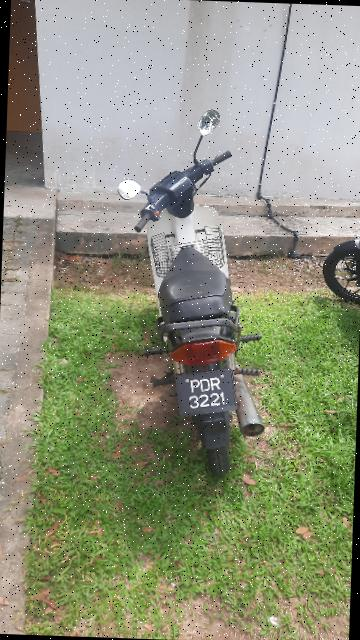License_Plate: (173, 371, 242, 419)
motorcycle: (83, 95, 323, 491)
